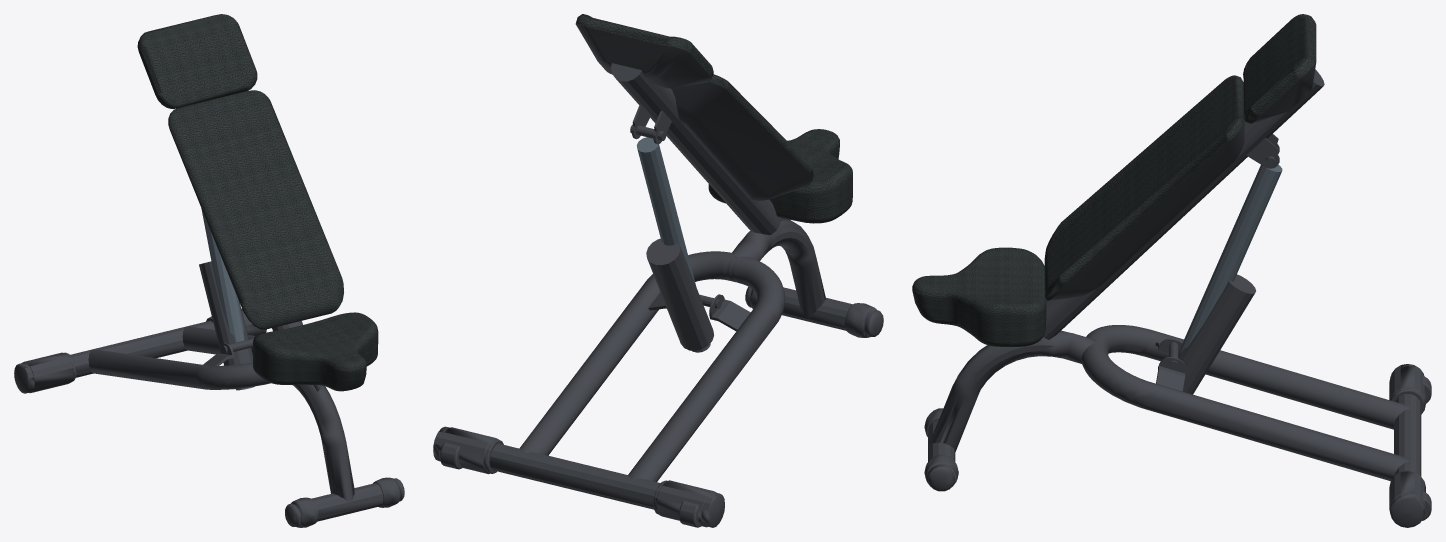
File: adjustablebench45-opus.glb
The picture shows the model from 3 angles, left to right: view 1: azimuth 30°, elevation 25°; view 2: azimuth 150°, elevation 25°; view 3: azimuth 270°, elevation 25°; orthographic projection. The views are drawn at different scales.
Parts seen in each view (by area): view 1: bench; view 2: bench; view 3: bench.
Part boxes in pixels (x1=…): bench: x1=14, y1=14, x2=404, y2=527; bench: x1=433, y1=14, x2=883, y2=527; bench: x1=912, y1=14, x2=1431, y2=527.
Size of the model in its own units: 0.697 by 1.03 by 1.13.
3 materials, 1 textured.
